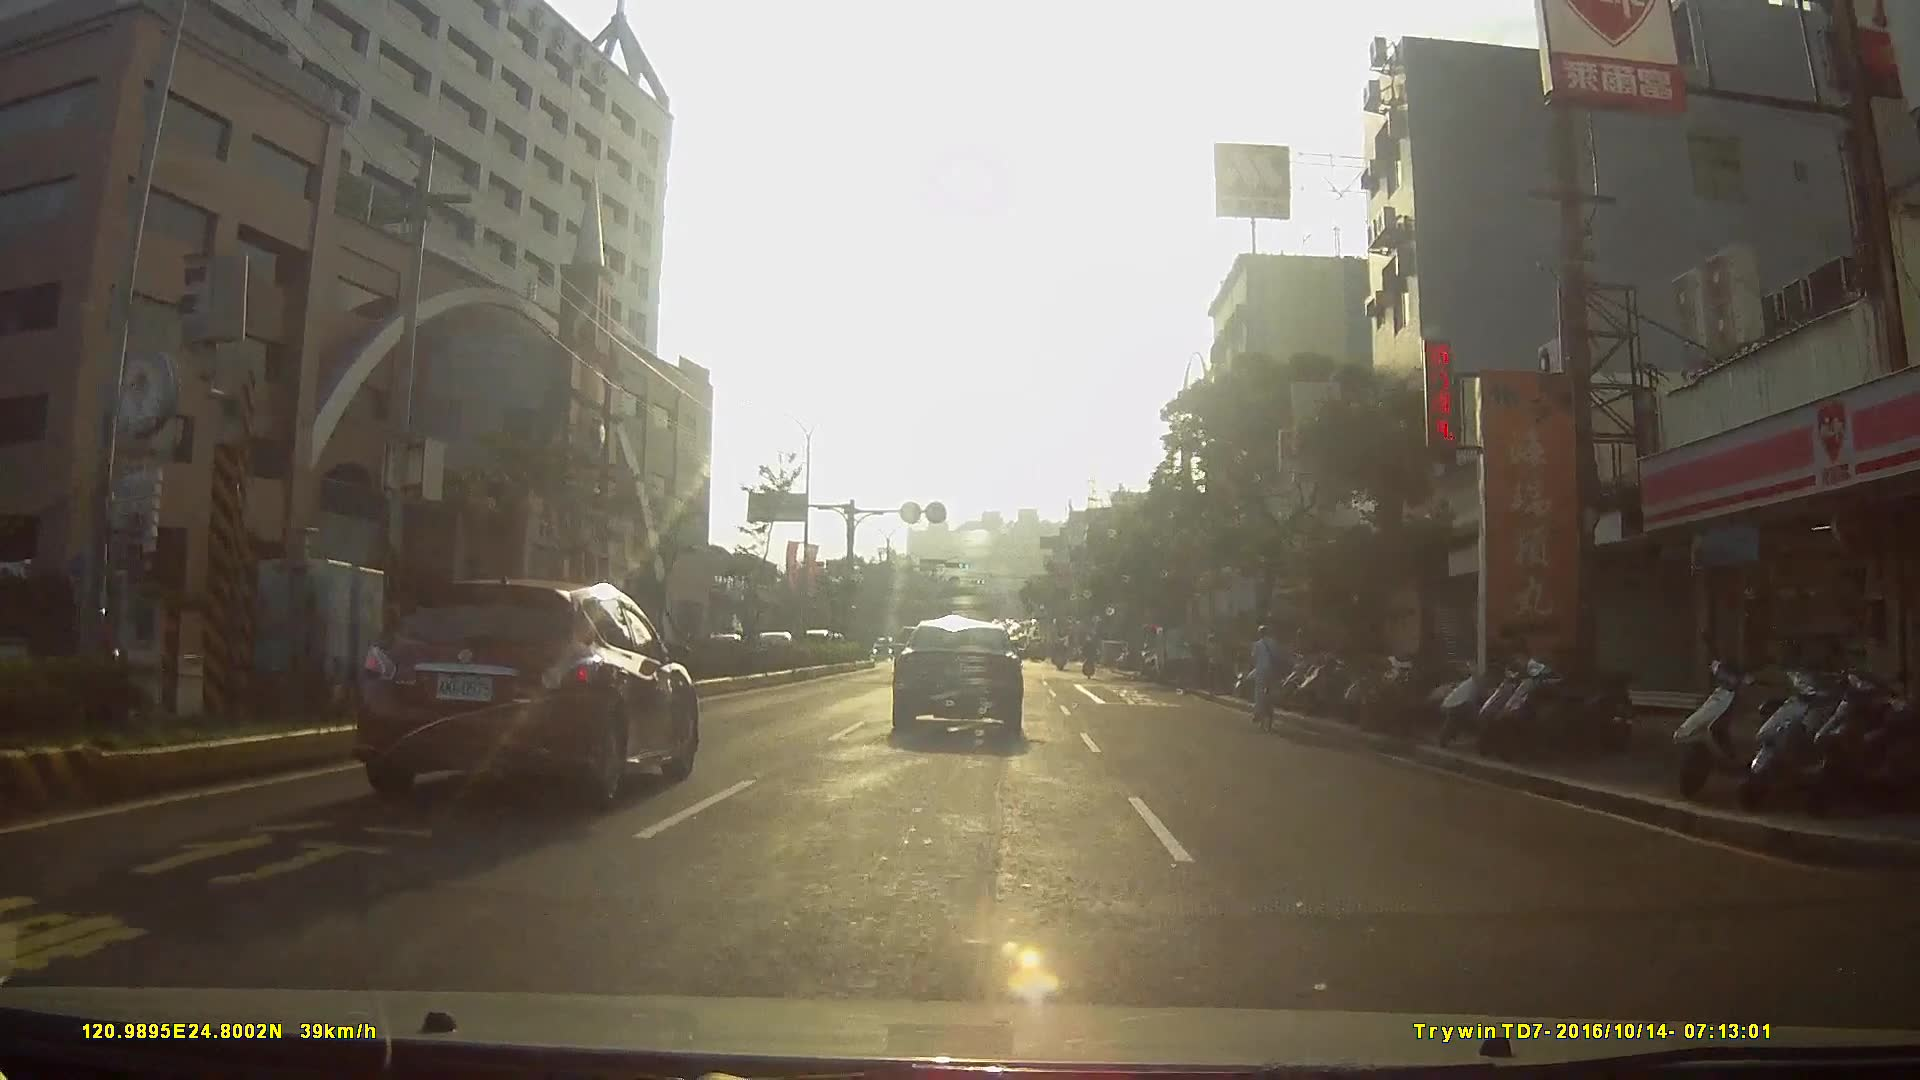rider: (63, 604, 133, 700), (1247, 622, 1289, 730)
vehicle: (352, 574, 712, 811), (886, 614, 1039, 748), (1150, 620, 1216, 685), (763, 607, 822, 662)
